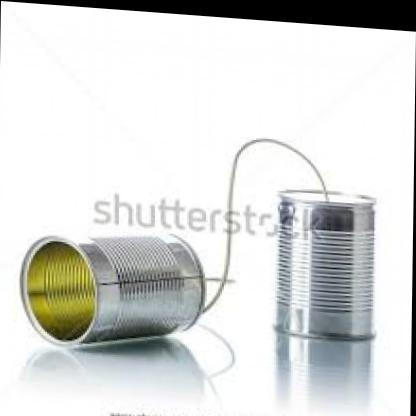trash: (21, 236, 204, 342), (276, 190, 374, 338)
